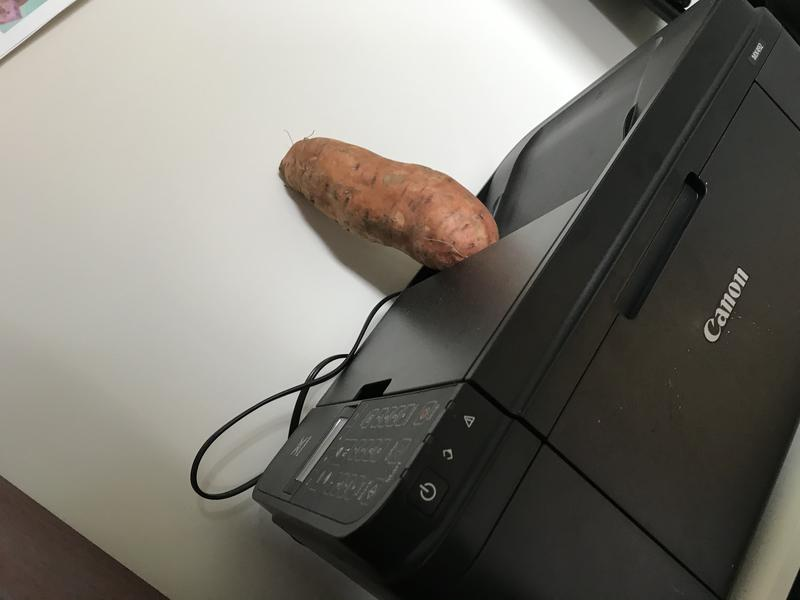sweet_potato: (271, 125, 512, 286)
